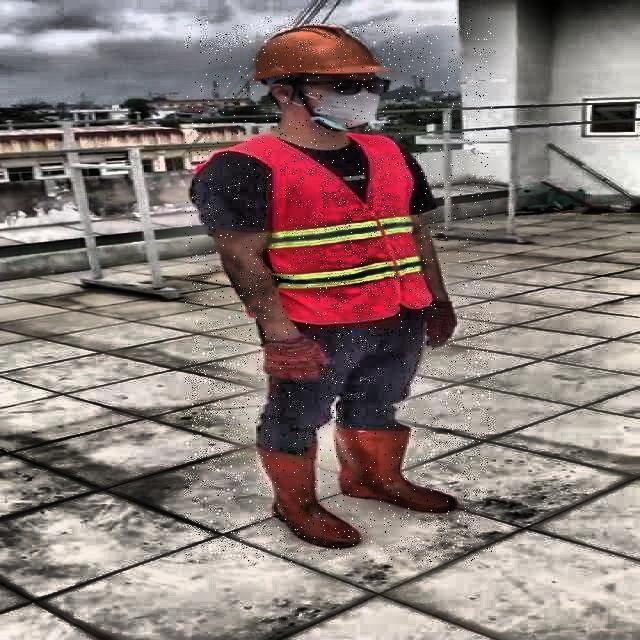safety_helmet: (245, 22, 392, 80)
safety_jacket: (253, 136, 427, 319)
